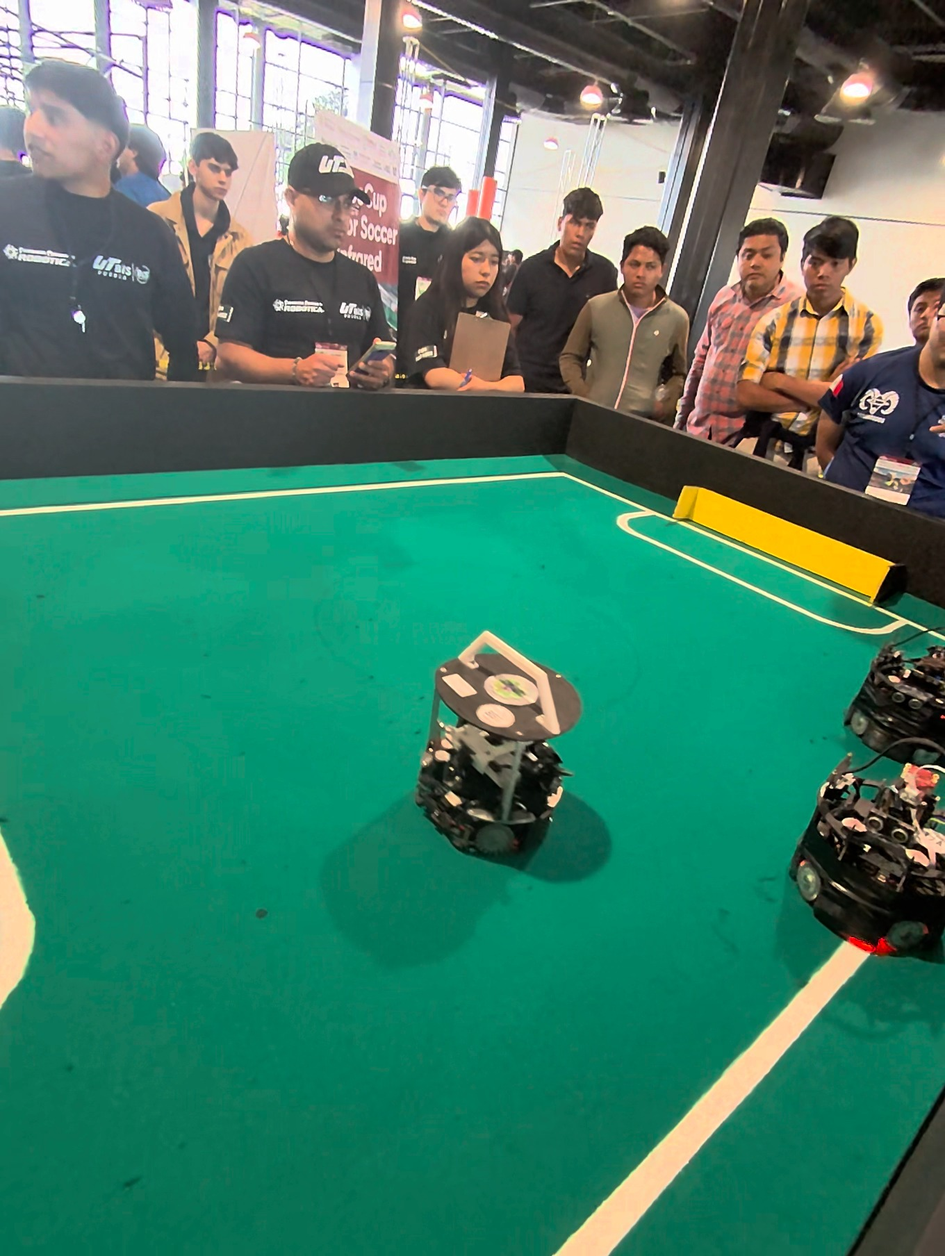Robot: (412, 611, 613, 875), (794, 743, 945, 977), (840, 604, 945, 766)
